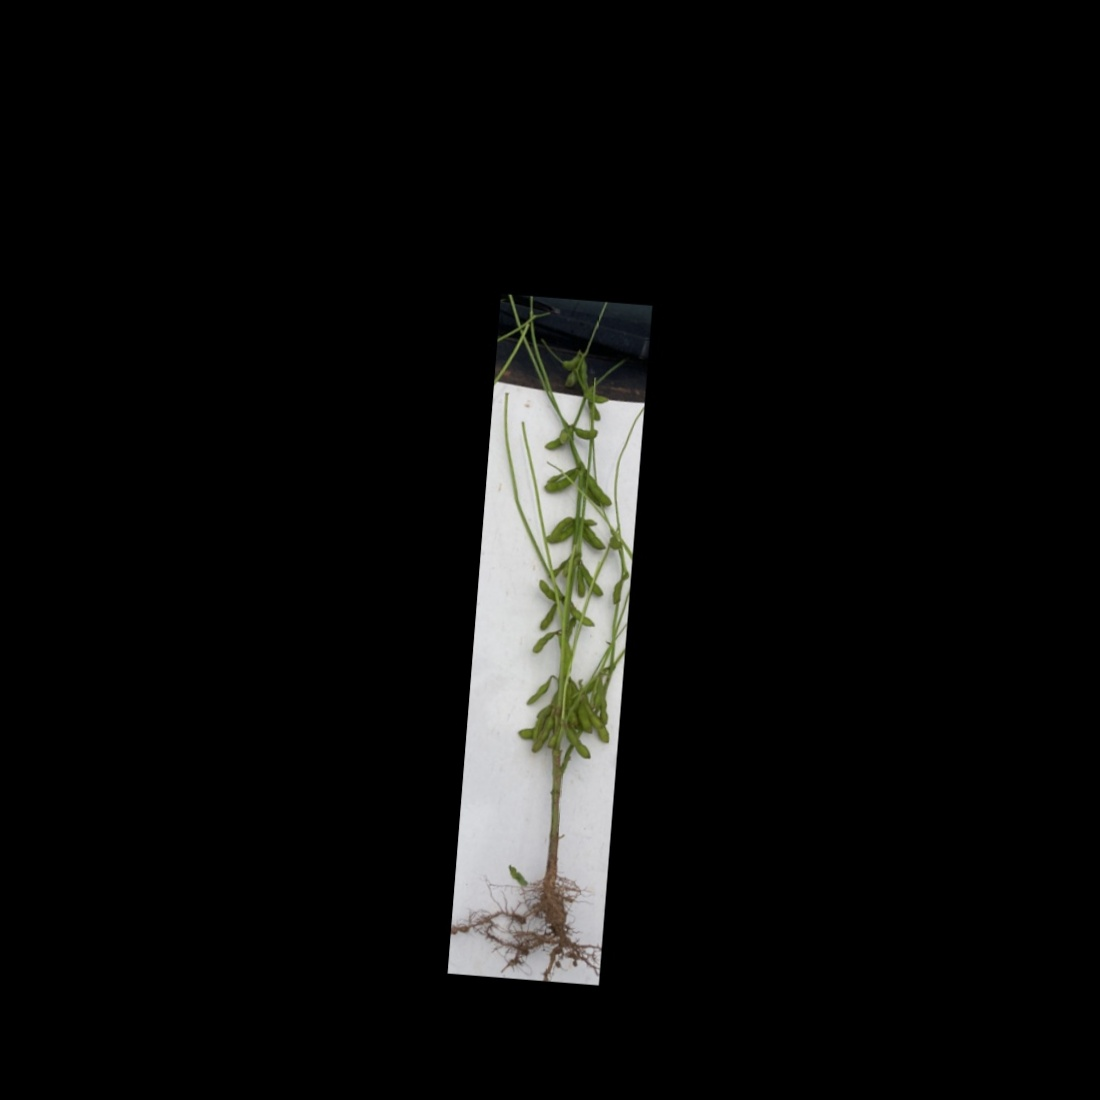pod: (582, 469, 618, 510), (559, 724, 594, 763), (522, 672, 555, 709), (529, 626, 561, 657), (566, 599, 598, 629), (579, 523, 608, 553), (536, 599, 560, 634), (548, 512, 574, 540), (579, 389, 614, 405), (566, 426, 603, 441)
soy: (476, 321, 643, 965)
